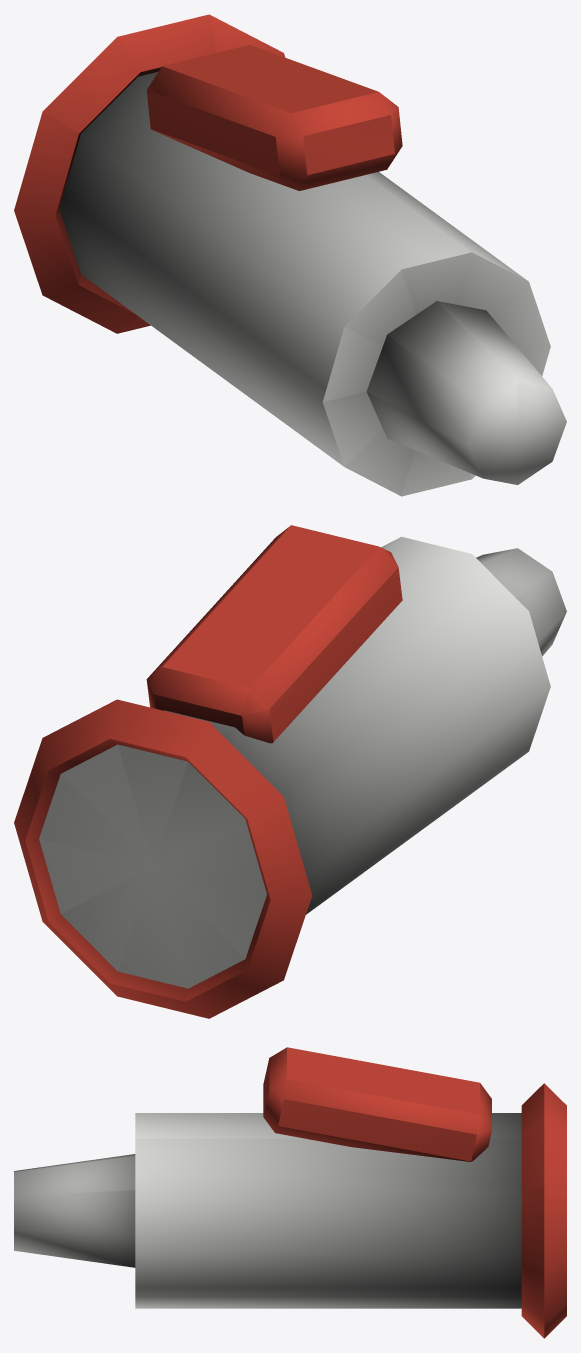
File: spray_nozzle.glb
3 renders of one model, top to bottom at view 1: azimuth 30°, elevation 25°; view 2: azimuth 150°, elevation 25°; view 3: azimuth 270°, elevation 25°, orthographic. The views are drawn at different scales.
Parts seen in each view (by area): view 1: body, lever, tip, collar; view 2: body, lever, collar, tip; view 3: body, lever, tip, collar.
Boxes of the visible parts, x1=… form: body: x1=59, y1=71, x2=550, y2=496; lever: x1=146, y1=45, x2=402, y2=190; tip: x1=366, y1=301, x2=566, y2=484; collar: x1=14, y1=14, x2=285, y2=333; body: x1=39, y1=536, x2=550, y2=988; lever: x1=146, y1=525, x2=402, y2=743; collar: x1=14, y1=699, x2=312, y2=1018; tip: x1=476, y1=548, x2=566, y2=656; body: x1=135, y1=1113, x2=521, y2=1308; lever: x1=263, y1=1047, x2=491, y2=1161; tip: x1=14, y1=1154, x2=135, y2=1267; collar: x1=521, y1=1083, x2=566, y2=1338.
Bounding box in the file's own units: 0.034 × 0.0377 × 0.073.
